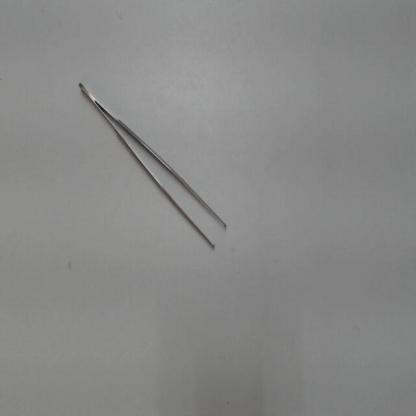Gillies Toothed Dissector: (71, 65, 234, 258)
